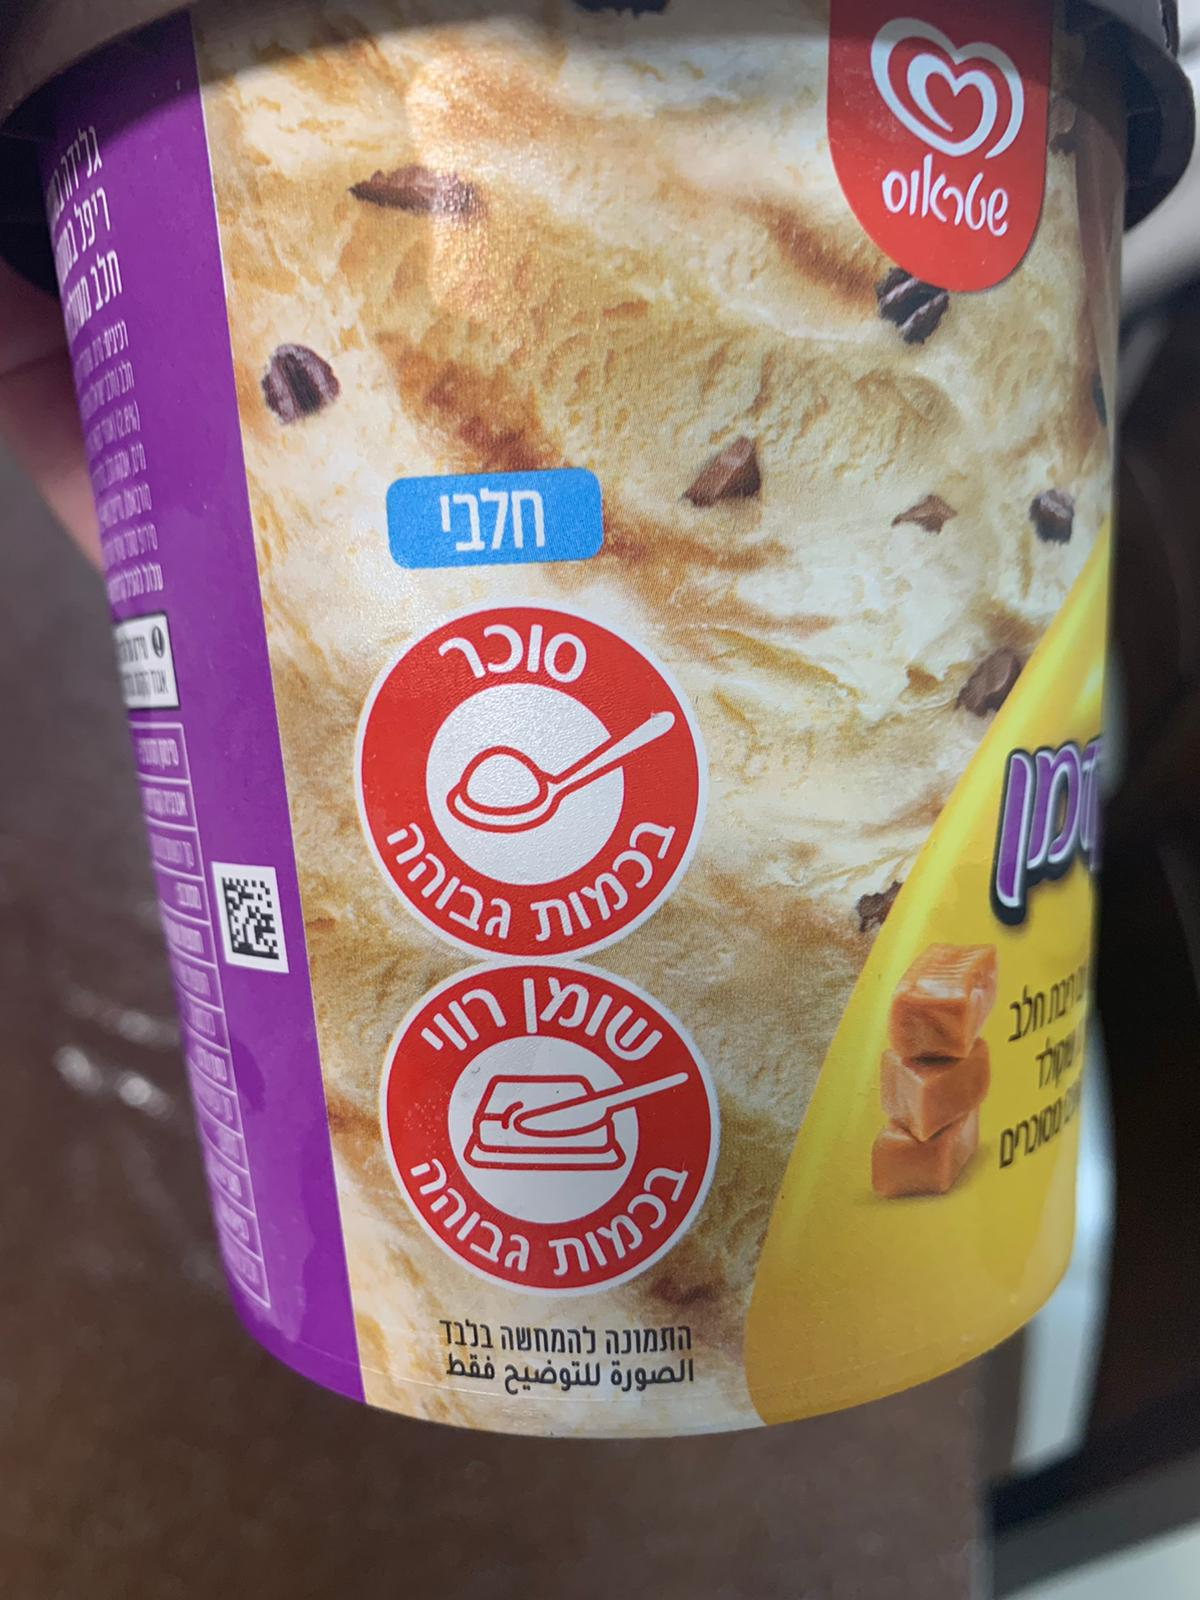fat: (376, 961, 718, 1293)
sugar: (350, 600, 707, 960)
